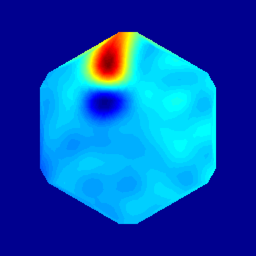ship: (91, 85, 118, 123)
wave: (93, 33, 125, 91)
